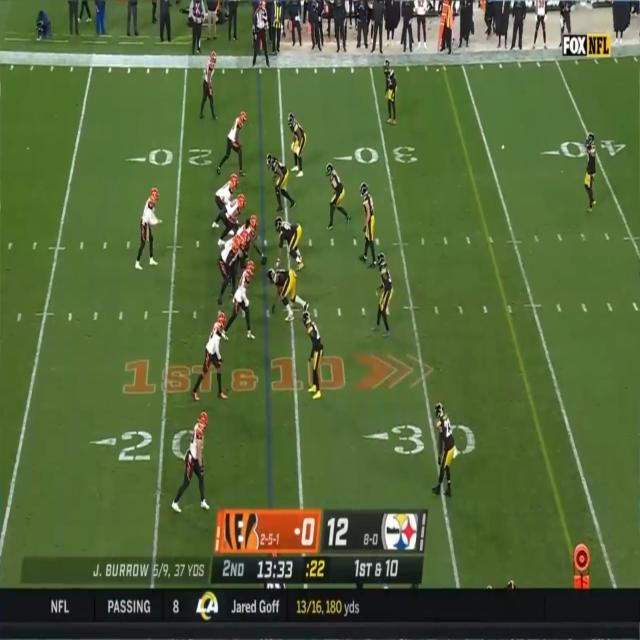Ball: (261, 253, 268, 265)
